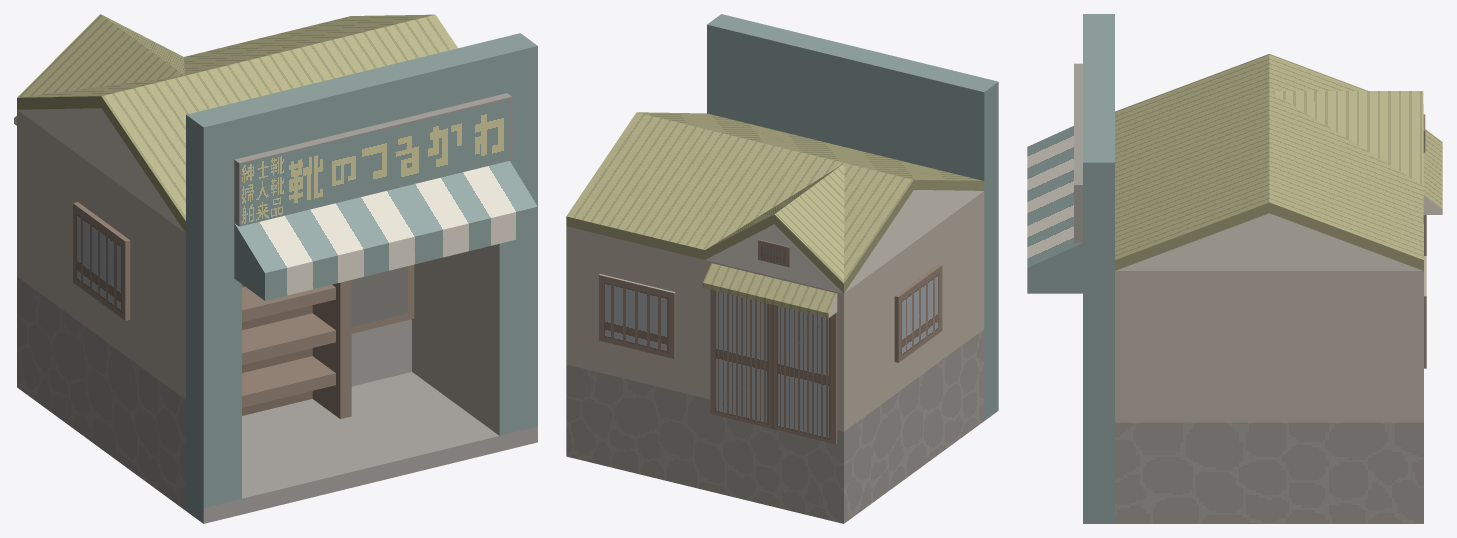
File: 0293_Shoe_Store.glb
3 views of the same model, side by side, from view 1: azimuth 30°, elevation 25°; view 2: azimuth 150°, elevation 25°; view 3: azimuth 270°, elevation 25° (orthographic). The views are drawn at different scales.
Parts seen in each view (by area): view 1: part_0; view 2: part_0; view 3: part_0.
Part boxes in pixels (box(x1,y1,x2,y2)): part_0: box(14, 14, 537, 523); part_0: box(566, 14, 998, 523); part_0: box(1027, 14, 1442, 523).
Size of the model in its own units: 4.48 by 5 by 5.21.
1 material, 1 textured.
